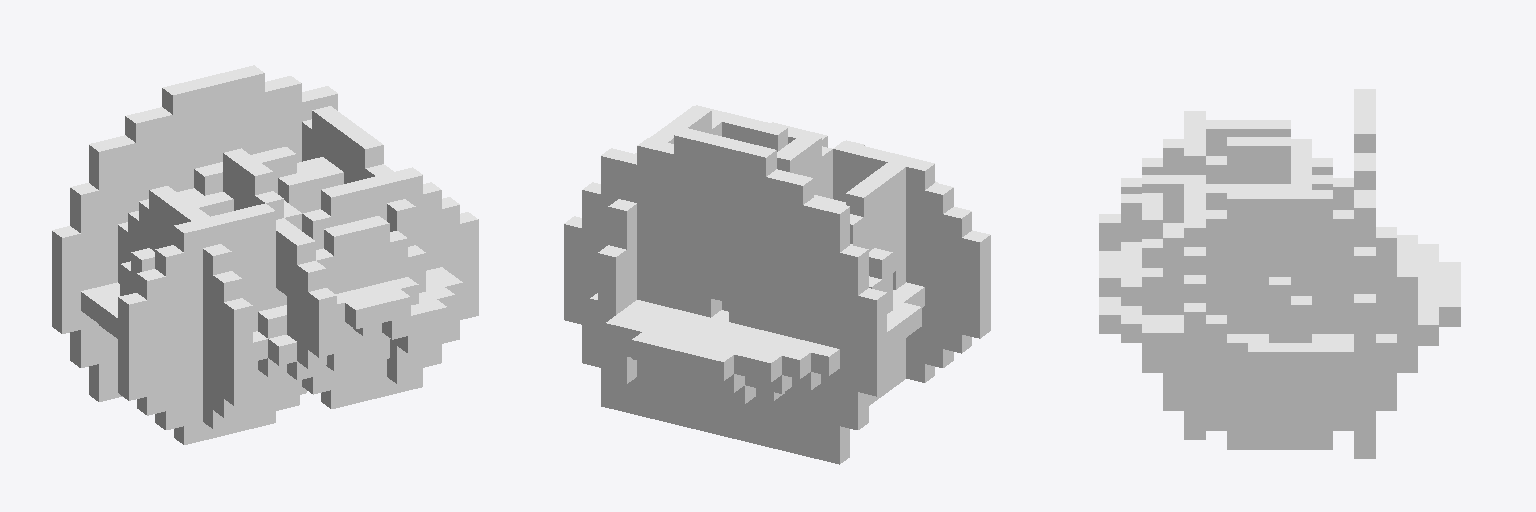
Rendered from letace.obj.
3 views of the same model, side by side, from view 1: azimuth 30°, elevation 25°; view 2: azimuth 150°, elevation 25°; view 3: azimuth 270°, elevation 25° (orthographic).
Parts seen in each view (by area): view 1: letace; view 2: letace; view 3: letace.
Boxes of the visible parts, <box> form: letace: <box>52,65,478,444</box>; letace: <box>564,105,990,464</box>; letace: <box>1099,89,1460,458</box>.
Bounding box in the file's own units: 19 × 15 × 17.